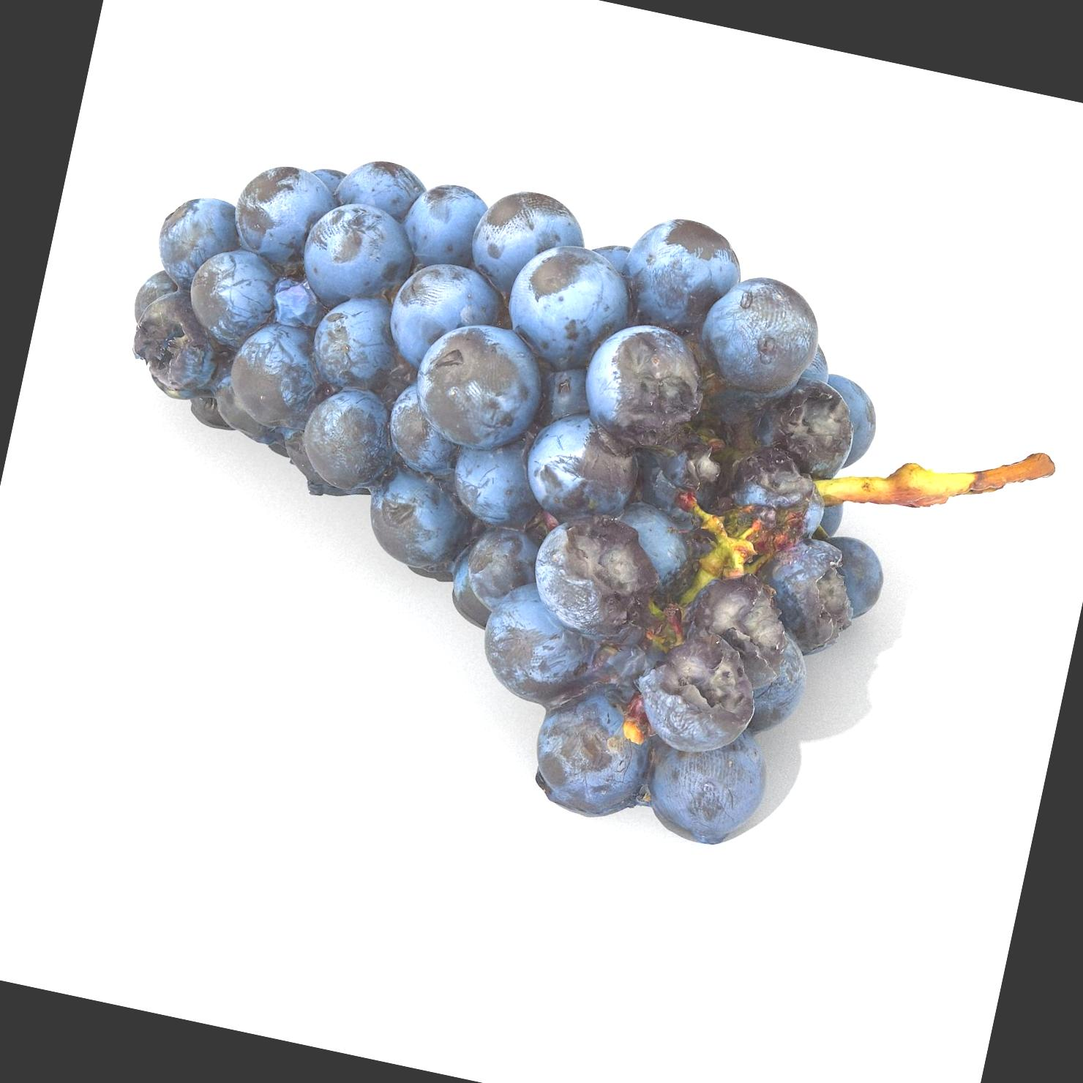Grape Rotten: (47, 107, 1083, 899), (48, 108, 955, 871)
